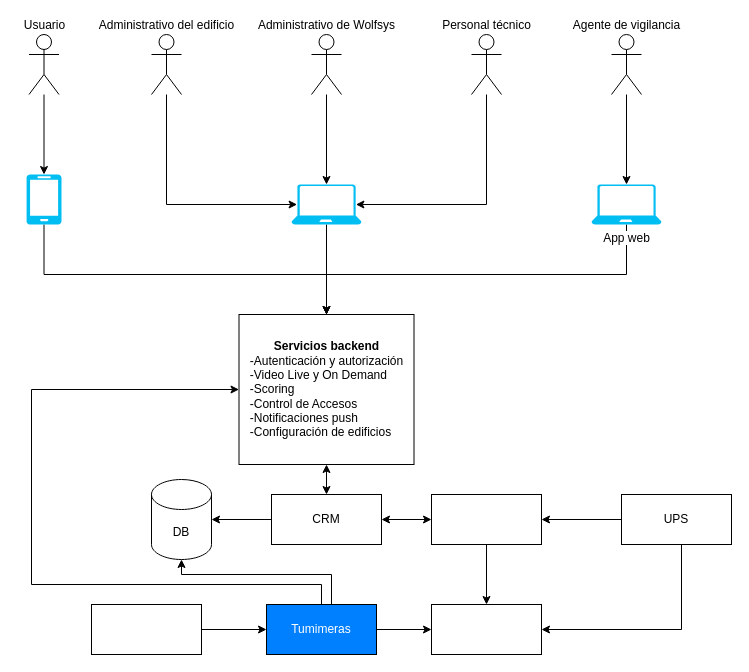
The diagram is 749 pixels wide and 672 high, and some of its shapes have lost their labels. The shapes that lost their labels are listed below. From the top down, each one's centre as x and y in pixels, then its label:
At pixel 43 199: "App móvil".
At pixel 326 204: "Interfaz administrativa".
At pixel 486 519: "Edge Controller".
At pixel 146 629: "Cámaras".
At pixel 486 629: "Dispositivos de acceso físico".
